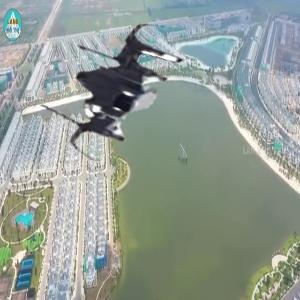drone: (38, 9, 202, 173)
